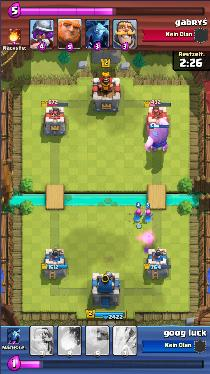ally_archer: (133, 208, 143, 223), (144, 207, 152, 223)
ally_giant: (145, 118, 170, 152)
